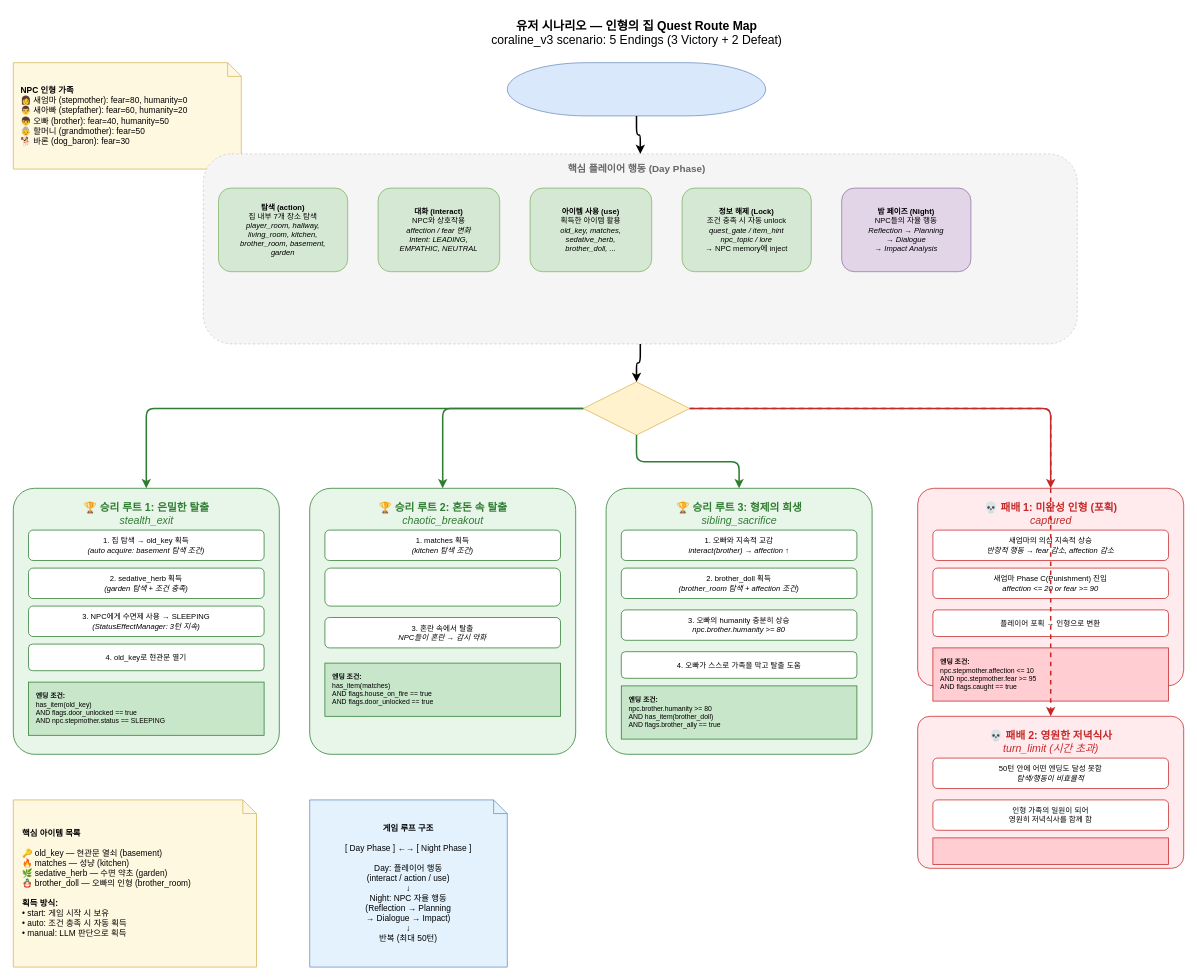
Image size: 1197x980. Some labels were removed from this diagram. Each missing label, with the box of its shape:
2. 집에 불 지르기 use(matches, light_fire) → flags.house_on_fire = true: (324, 567, 560, 606)
게임 시작 플레이어: 인형의 집에 갇힌 소녀 인형 가족과 함께 탈출구를 찾아야 한다 Turn Limit: 50: (507, 62, 766, 116)
엔딩 분기: (583, 381, 690, 435)
엔딩 조건: system.turn == turn_limit (50): (932, 837, 1168, 864)
